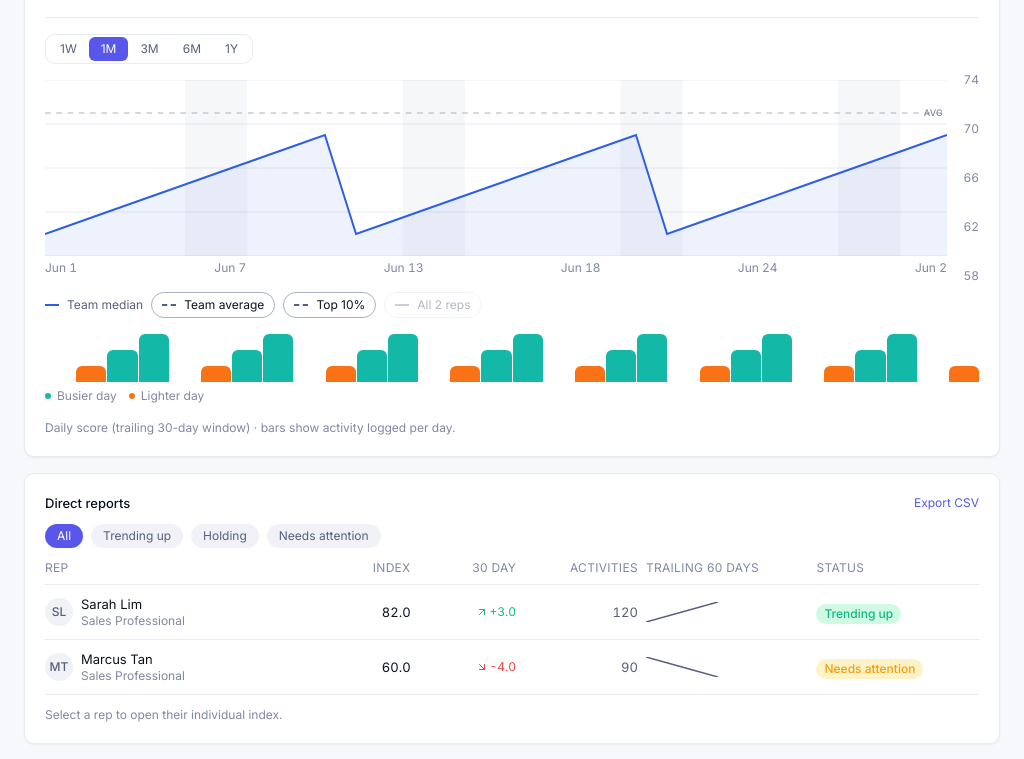
it: PersistenceIndexReport › clicking a rep drills into their trend and shows Back to team
(page scrolled)
Step 1. Click the text "Sarah Lim" → (112, 604), box [81,596,142,612]
(page scrolled)
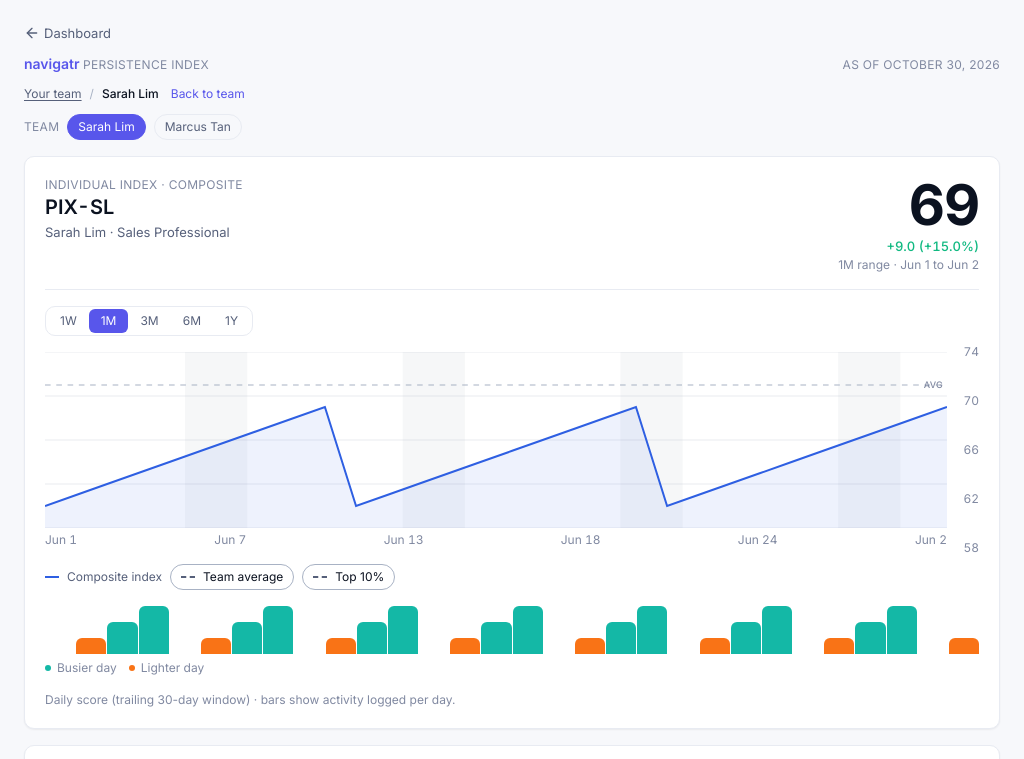
Now the text "Sarah Lim" is shown, box [102,86,159,102]
Now the button "Back to team" is shown
Step 2. Click the button "Back to team" → (208, 94), box [171,86,245,102]
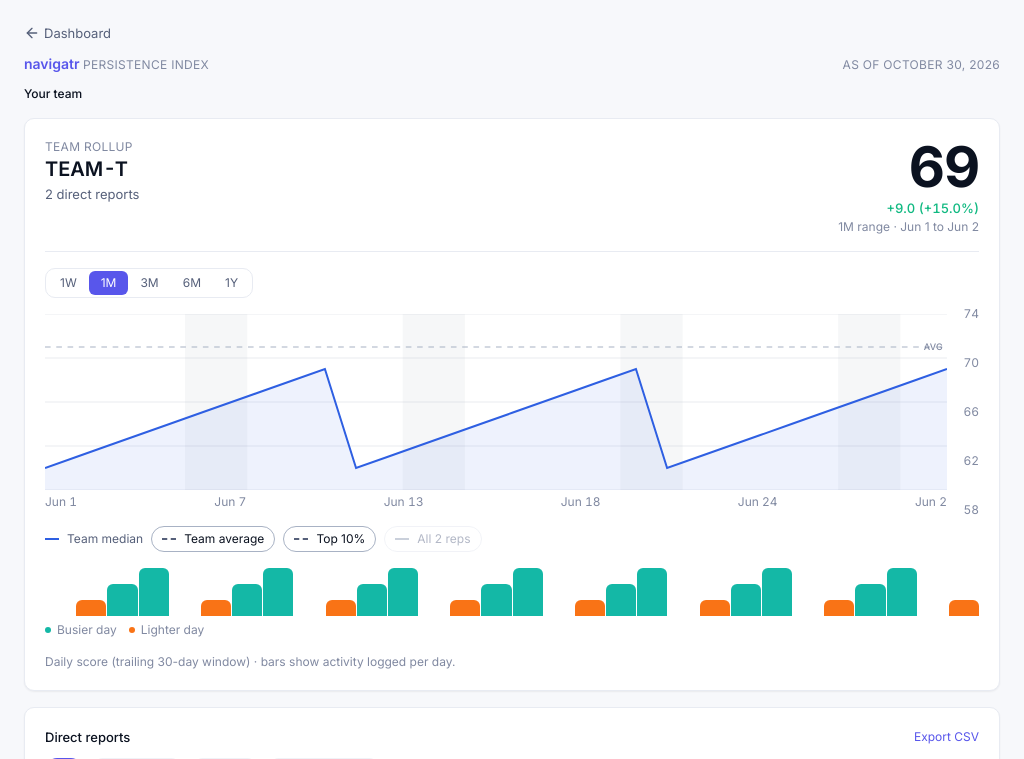
Now the text "Direct reports" is shown, box [45,728,130,746]
